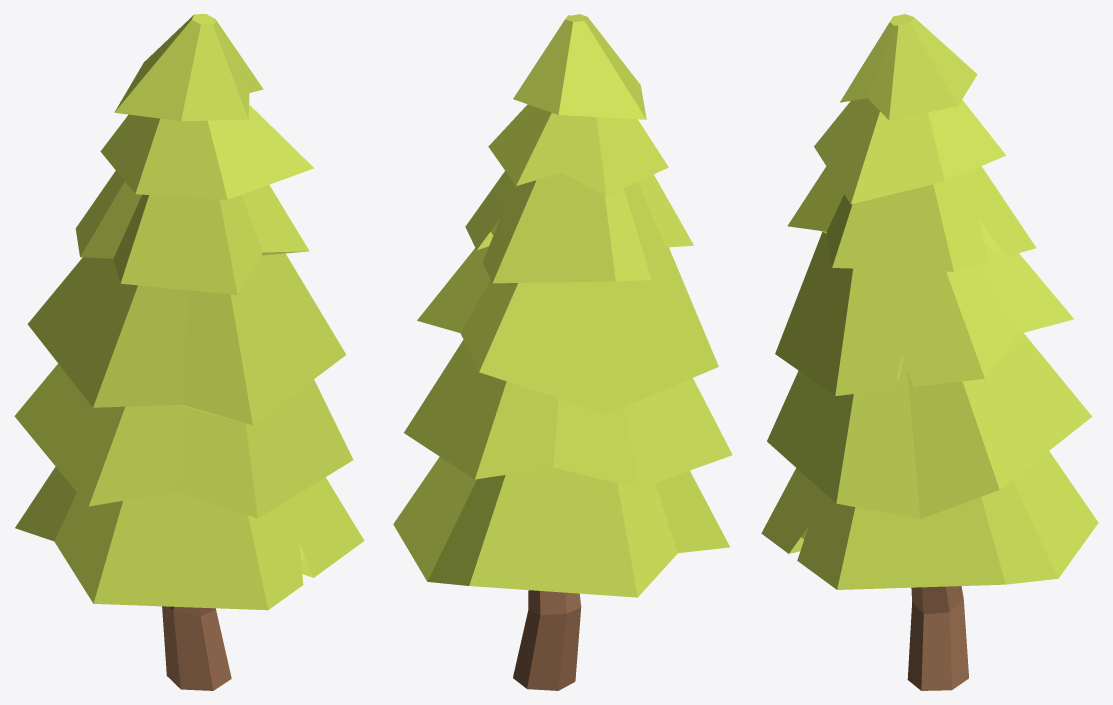
The model's file is tree2.fbx.
The picture shows the model from 3 angles, left to right: view 1: azimuth 30°, elevation 25°; view 2: azimuth 150°, elevation 25°; view 3: azimuth 270°, elevation 25°; orthographic projection. The views are drawn at different scales.
Parts seen in each view (by area): view 1: tree3.005; view 2: tree3.005; view 3: tree3.005.
Part boxes in pixels (<box>): tree3.005: <box>14,14,364,690</box>; tree3.005: <box>393,14,732,690</box>; tree3.005: <box>761,14,1098,690</box>.
Bounding box in the file's own units: 294 × 693 × 324.
